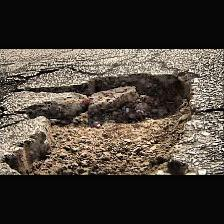pothole: (0, 69, 198, 174)
